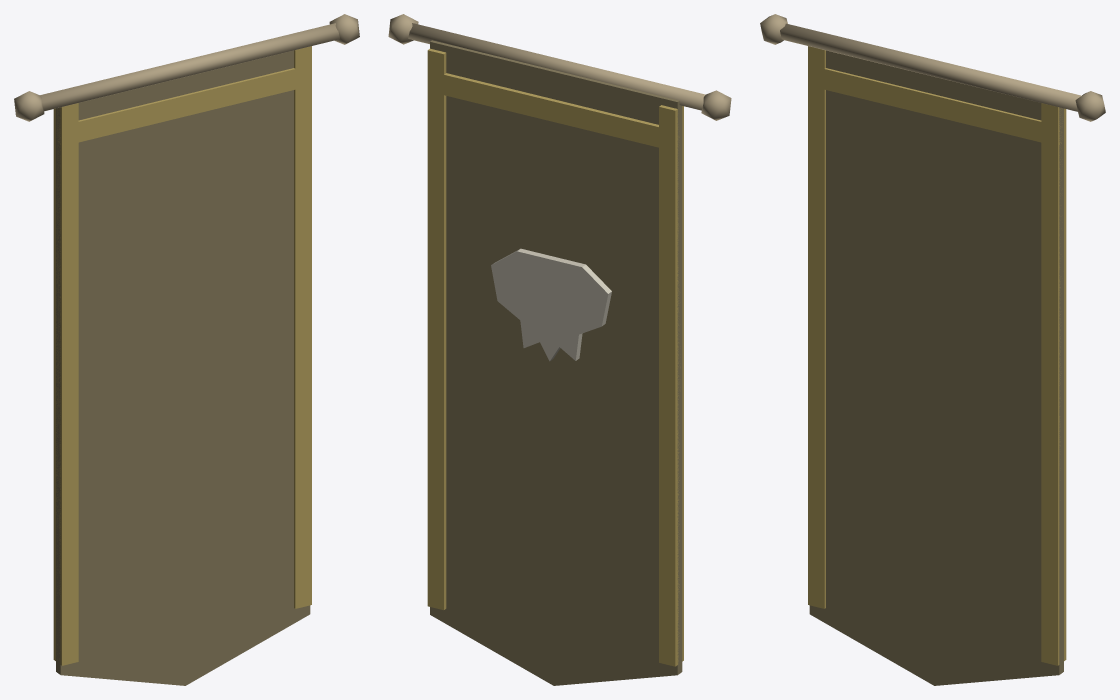
Rendered from undead_miner_banner_v0.glb.
The picture shows the model from 3 angles, left to right: view 1: azimuth 30°, elevation 25°; view 2: azimuth 150°, elevation 25°; view 3: azimuth 330°, elevation 25°; orthographic projection.
Visible parts, largest first — view 1: undead_miner_banner_v0; view 2: undead_miner_banner_v0; view 3: undead_miner_banner_v0.
Boxes of the visible parts, left/top/right/bottom form: undead_miner_banner_v0: left=14, top=14, right=359, bottom=685; undead_miner_banner_v0: left=388, top=14, right=731, bottom=685; undead_miner_banner_v0: left=760, top=14, right=1105, bottom=685.
Bounding box in the file's own units: 1.04 × 1.84 × 0.0933.
